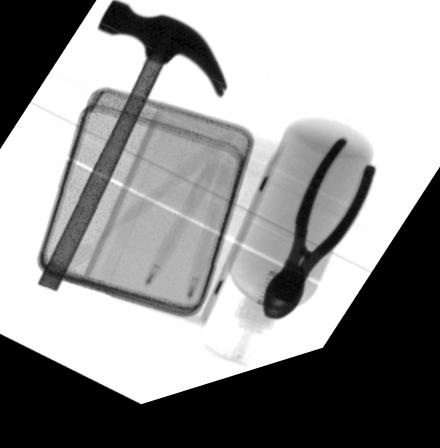Hammer: (36, 4, 229, 295)
Pliers: (261, 156, 375, 337)
